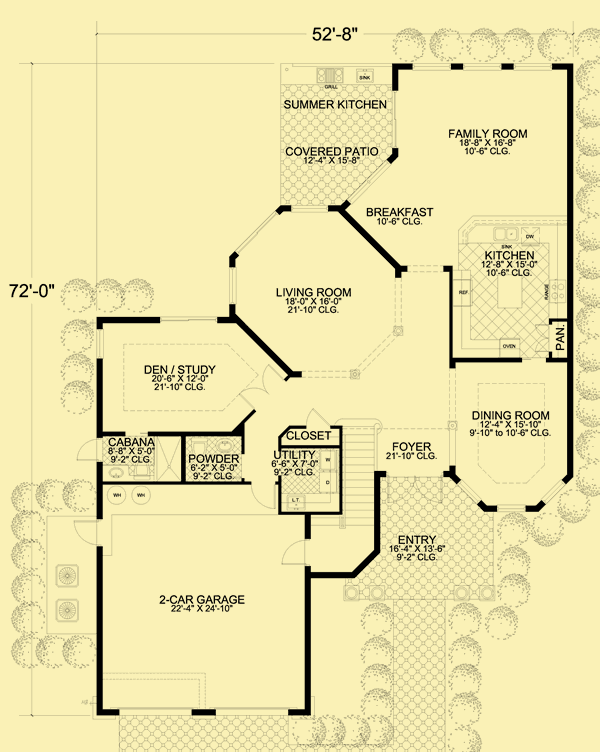bathroom has small and large sink: (182, 430, 246, 490)
garage outside with two car space: (79, 504, 317, 718)
kitchen has a breakfast counter, twin sink and cooking range: (450, 211, 572, 366)
open kitchen with cooking range and twin sink: (275, 63, 394, 207)
stairs near the laundry room with washer and dryer: (276, 416, 386, 582)
